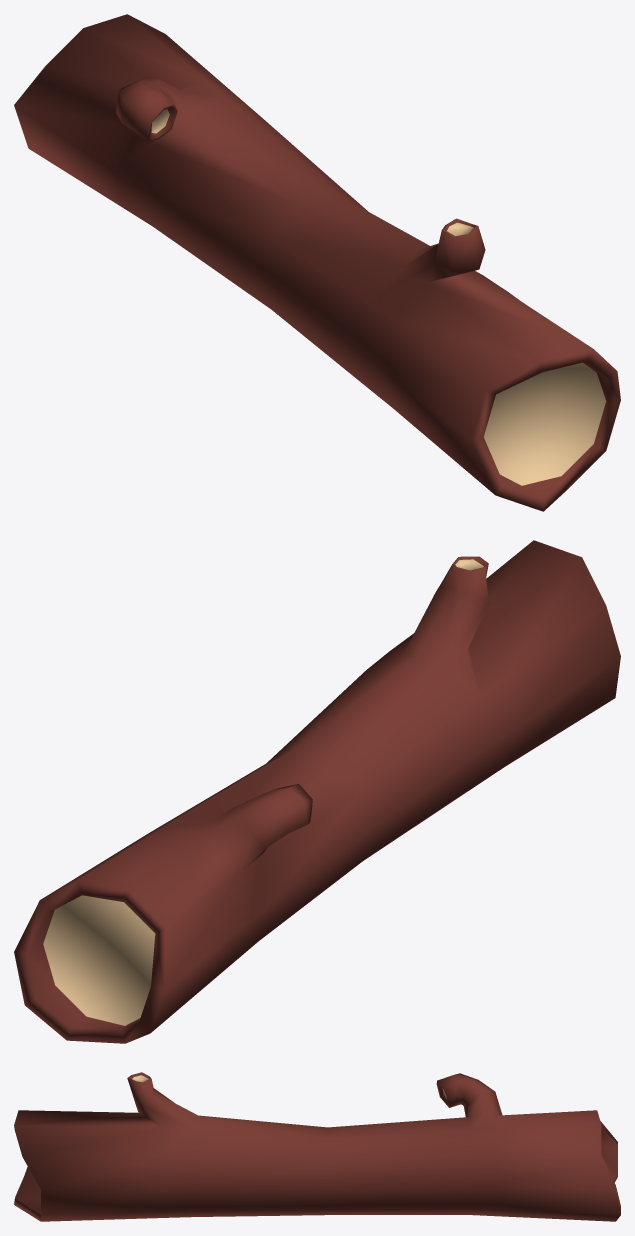
Rendered from Log.fbx.
3 renders of one model, top to bottom at view 1: azimuth 30°, elevation 25°; view 2: azimuth 150°, elevation 25°; view 3: azimuth 270°, elevation 25°, orthographic. The views are drawn at different scales.
Parts seen in each view (by area): view 1: Log; view 2: Log; view 3: Log.
Part boxes in pixels (x1,y1,x2,y2): Log: [14, 14, 620, 511]; Log: [14, 540, 620, 1043]; Log: [14, 1072, 620, 1221].
Size of the model in its own units: 156 by 186 by 756.
